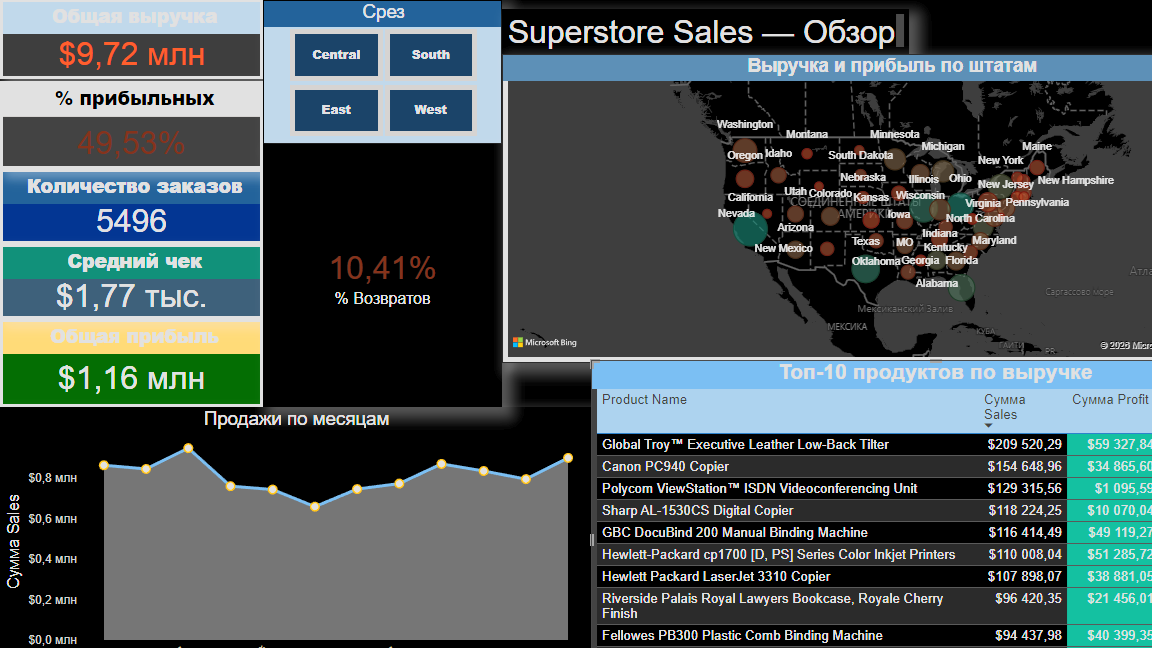

Layout of this report page (visuals, bound fields, positions):
{"tool":"powerbi","page":{"name":"Обзор KPI","canvas":[1280,720],"ordinal":0},"visuals":[{"type":"card","title":"Общая выручка","fields":{"Values":["Sum(Orders.Sales)"]},"box":[0,0,263,80],"z":0},{"type":"card","title":"Общая прибыль","fields":{"Values":["Sum(Orders.Profit)"]},"box":[0,320,263,88],"z":1000},{"type":"card","title":"Количество заказов","fields":{"Values":["CountNonNull(Orders.Order ID)"]},"box":[0,170,263,75],"z":2000},{"type":"card","title":"% прибыльных","fields":{"Values":["Orders.Мера"]},"box":[0,82,263,88],"z":3000},{"type":"card","title":"Средний чек","fields":{"Values":["Avg(Orders.Sales)"]},"box":[0,245,263,75],"z":4000},{"type":"slicer","title":"Срез ","fields":{"Values":["Orders.Region"]},"box":[263,1,239,144],"z":5000},{"type":"textbox","box":[502.5,10.3,406.1,44.9],"z":6000},{"type":"lineChart","title":"Продажи по месяцам","fields":{"Category":["Orders.Order Date.Изменение.Иерархия дат.Месяц"],"Y":["Sum(Orders.Sales)"]},"box":[0,408,591,312],"z":7000},{"type":"card","fields":{"Values":["Orders.% Возвратов"]},"box":[263,145,239,263],"z":8000},{"type":"map","title":"Выручка и прибыль по штатам","fields":{"Category":["Orders.State"],"Size":["Sum(Orders.Sales)"]},"box":[502,55,778,309],"z":9000},{"type":"tableEx","title":"Топ-10 продуктов по выручке","fields":{"Values":["Orders.Product Name","Sum(Orders.Sales)","Sum(Orders.Profit)","CountNonNull(Orders.Order ID)"]},"box":[591,361,689,359],"z":9001}]}

Visuals, with their boxes in screenshot pixels (x1, y1, x2, y2), scaled from the page's 1280x720 canvas onto the 1152x648 screenshot:
"Общая выручка" card: Rect(0, 0, 237, 72)
"Общая прибыль" card: Rect(0, 288, 237, 367)
"Количество заказов" card: Rect(0, 153, 237, 220)
"% прибыльных" card: Rect(0, 74, 237, 153)
"Средний чек" card: Rect(0, 220, 237, 288)
"Срез " slicer: Rect(237, 1, 452, 130)
textbox: Rect(452, 9, 818, 50)
"Продажи по месяцам" lineChart: Rect(0, 367, 532, 647)
card - Orders.% Возвратов: Rect(237, 130, 452, 367)
"Выручка и прибыль по штатам" map: Rect(452, 50, 1151, 328)
"Топ-10 продуктов по выручке" tableEx: Rect(532, 325, 1151, 647)
